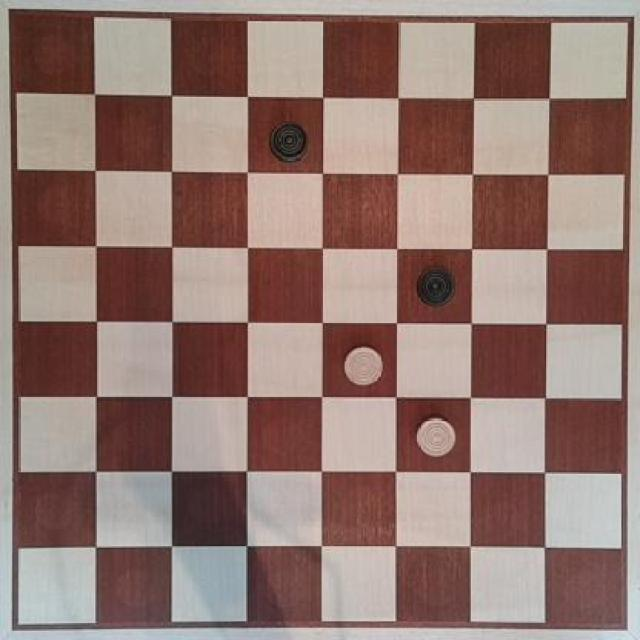BOARD: (10, 10, 626, 627)
black: (404, 256, 462, 317), (262, 118, 312, 168)
white: (337, 338, 392, 397), (410, 410, 458, 462)
